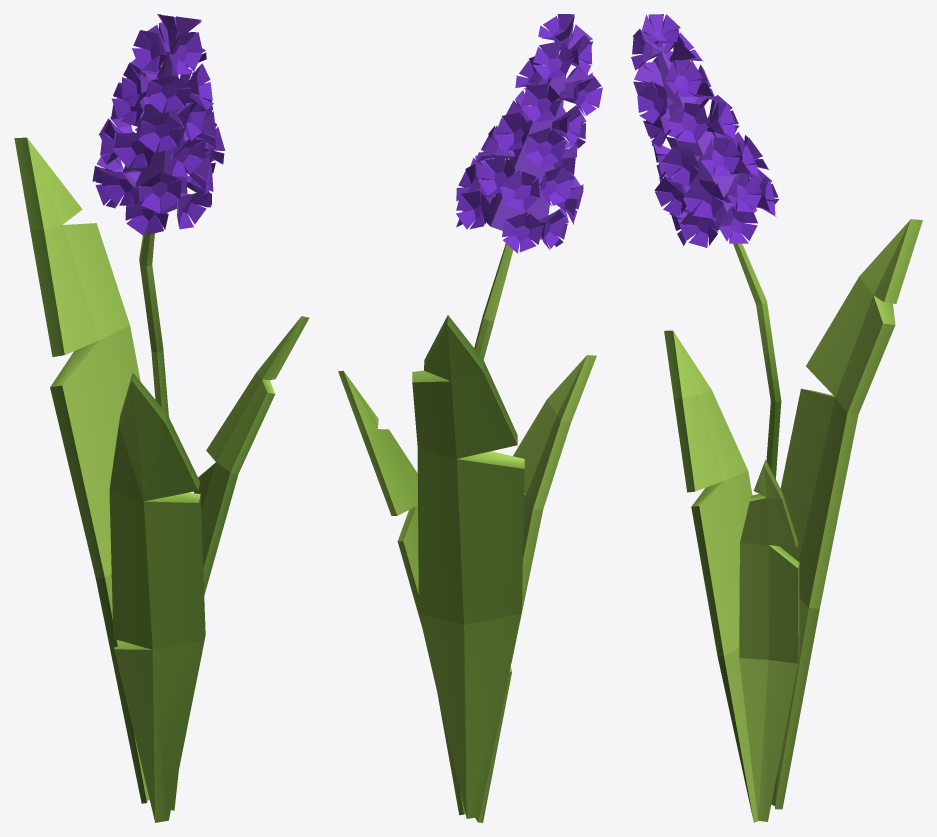
The model's file is Hyacinth.glb.
The picture shows the model from 3 angles, left to right: view 1: azimuth 30°, elevation 25°; view 2: azimuth 150°, elevation 25°; view 3: azimuth 270°, elevation 25°; orthographic projection. The views are drawn at different scales.
Parts seen in each view (by area): view 1: Hyacinth; view 2: Hyacinth; view 3: Hyacinth.
Part boxes in pixels (<box>): Hyacinth: <box>14,14,309,822</box>; Hyacinth: <box>338,14,602,822</box>; Hyacinth: <box>631,14,922,822</box>.
Bounding box in the file's own units: 1.52 × 5.28 × 1.78.
Materials: 1 (1 with a texture image).
